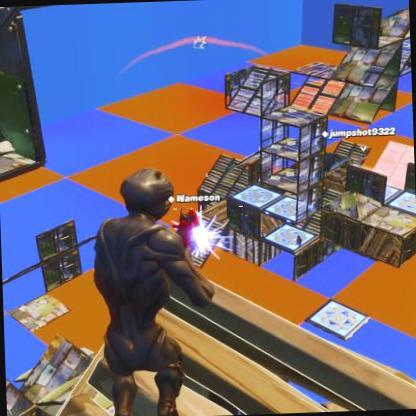person: (361, 154, 367, 164)
